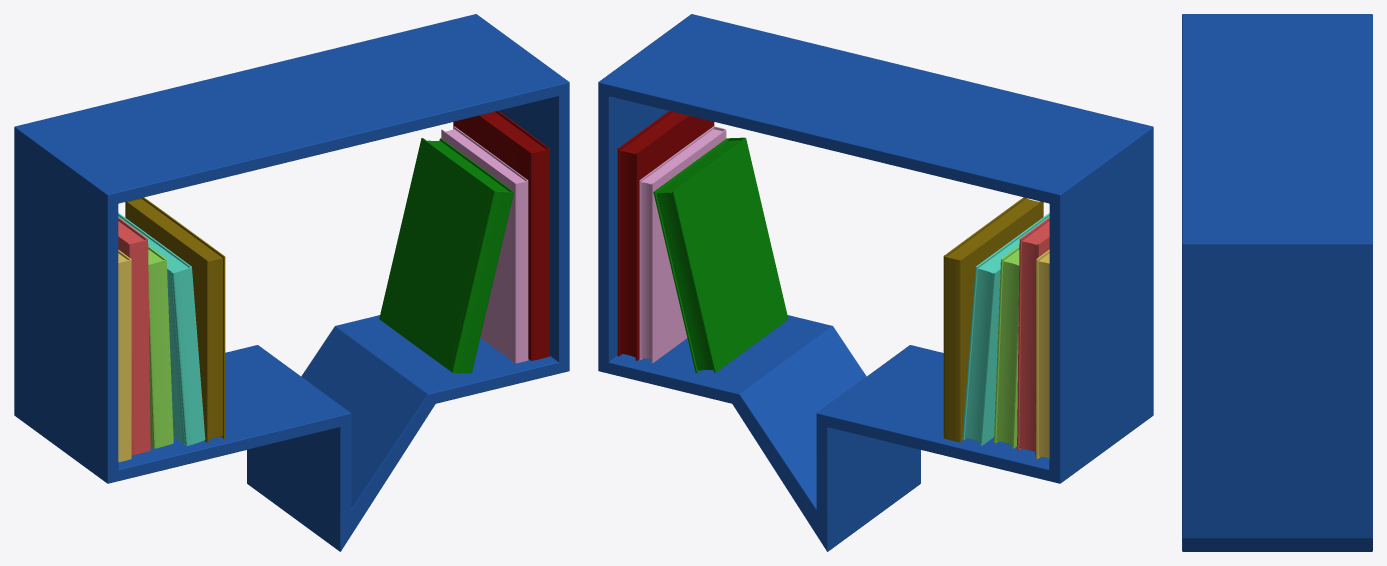
Rendered from bookshelf_comment.obj.
The picture shows the model from 3 angles, left to right: view 1: azimuth 30°, elevation 25°; view 2: azimuth 150°, elevation 25°; view 3: azimuth 270°, elevation 25°; orthographic projection.
Parts seen in each view (by area): view 1: shelf, book08, book06, book07, book05, book04, book02, book03, book01; view 2: shelf, book08, book07, book06, book05, book04, book02, book03, book01; view 3: shelf.
Part boxes in pixels (bbox=[...]): shelf: bbox=[14, 14, 569, 551]; book08: bbox=[379, 138, 513, 373]; book06: bbox=[125, 197, 225, 442]; book07: bbox=[453, 111, 549, 360]; book05: bbox=[441, 126, 528, 363]; book04: bbox=[118, 213, 205, 445]; book02: bbox=[118, 217, 150, 455]; book03: bbox=[148, 246, 173, 448]; book01: bbox=[118, 249, 131, 462]; shelf: bbox=[598, 14, 1153, 551]; book08: bbox=[653, 137, 788, 373]; book07: bbox=[617, 111, 714, 360]; book06: bbox=[943, 197, 1043, 442]; book05: bbox=[639, 126, 726, 363]; book04: bbox=[962, 213, 1049, 446]; book02: bbox=[1017, 217, 1049, 455]; book03: bbox=[994, 246, 1019, 448]; book01: bbox=[1036, 249, 1049, 458]; shelf: bbox=[1182, 14, 1372, 551].
Bounding box in the file's own units: 25.13 × 21.51 × 8.8.
